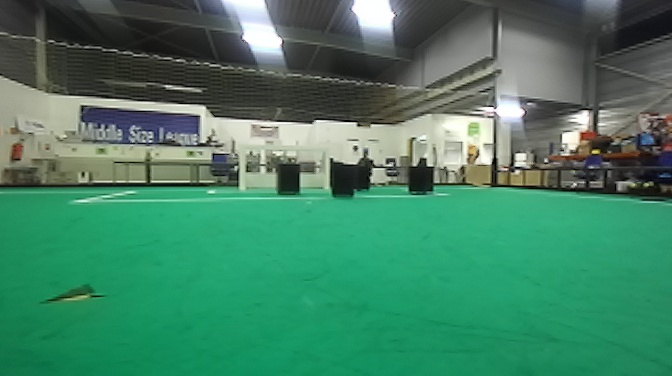goalpost: (236, 144, 244, 193)
